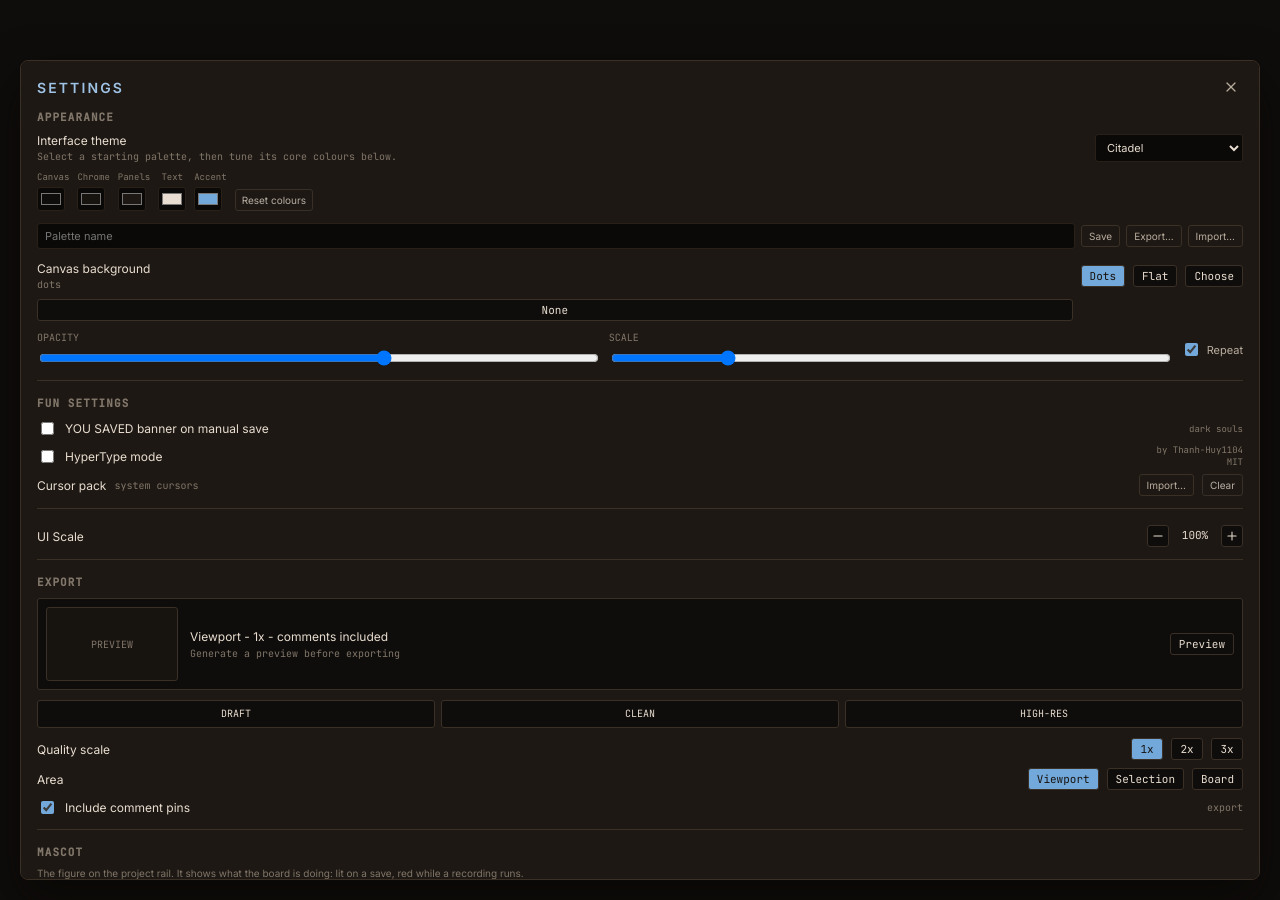
Test: importing a cursor pack › reports a file that is not JSON instead of throwing
Click the button "Import…" in the row of "system cursors". click: (1166, 485)
box: [1138,474,1194,496]
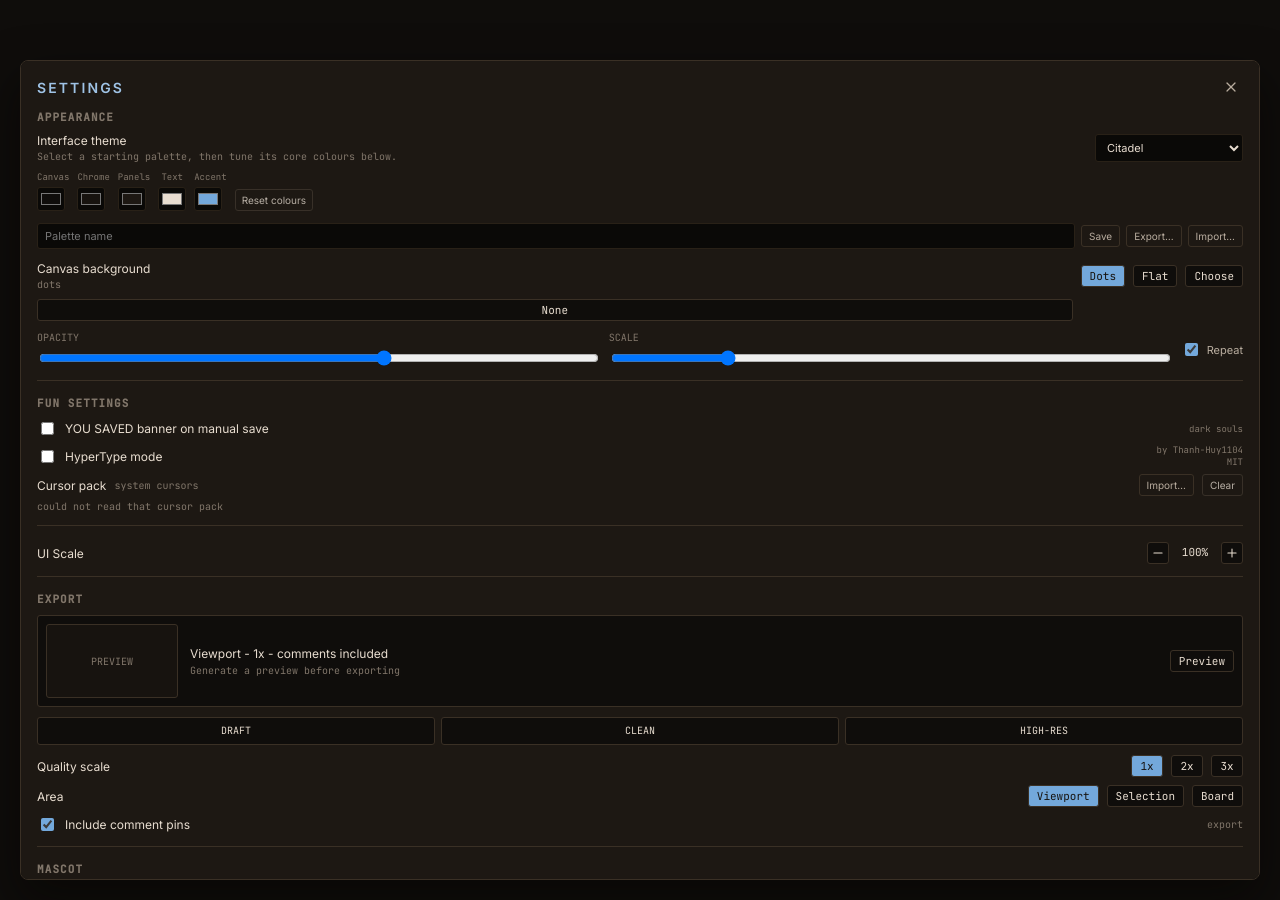
expect the text "could not read that cursor pack" is shown: met, box [37,500,223,513]
